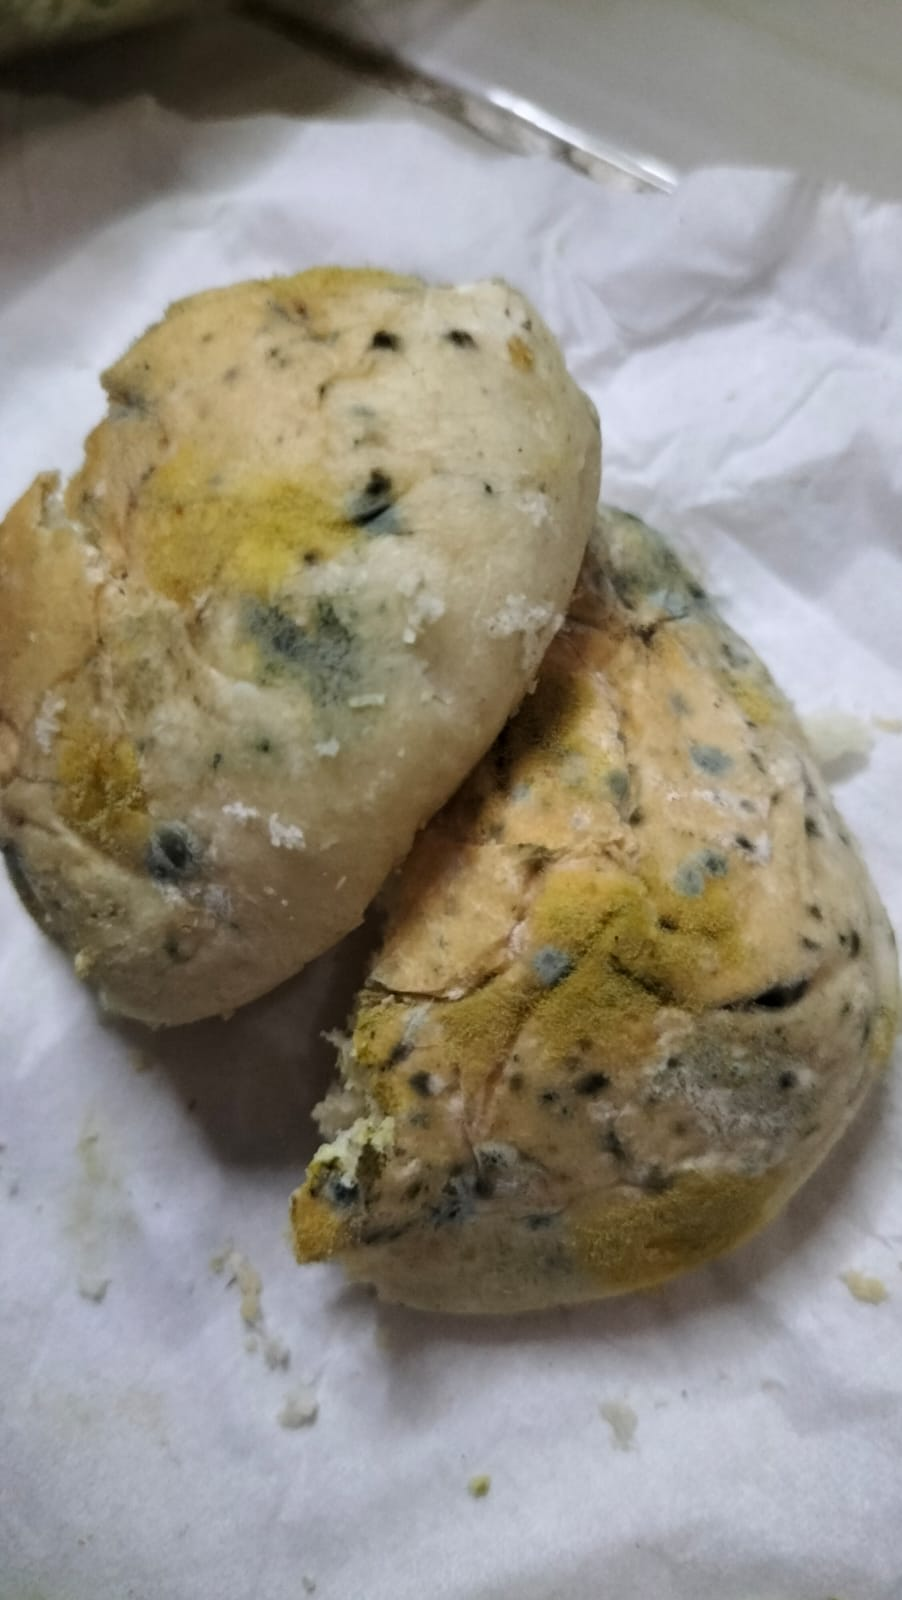mold_bread: (233, 585, 378, 722), (611, 514, 719, 651), (312, 1134, 407, 1252), (352, 1012, 445, 1102), (430, 1138, 521, 1227), (332, 466, 411, 548), (515, 925, 591, 997), (141, 813, 208, 885), (665, 844, 735, 904), (563, 1038, 615, 1108), (210, 729, 283, 776), (684, 737, 745, 779), (489, 1052, 534, 1102), (797, 897, 829, 958), (363, 319, 407, 358), (602, 769, 636, 814), (441, 322, 475, 356), (296, 545, 324, 573), (477, 473, 500, 504)
